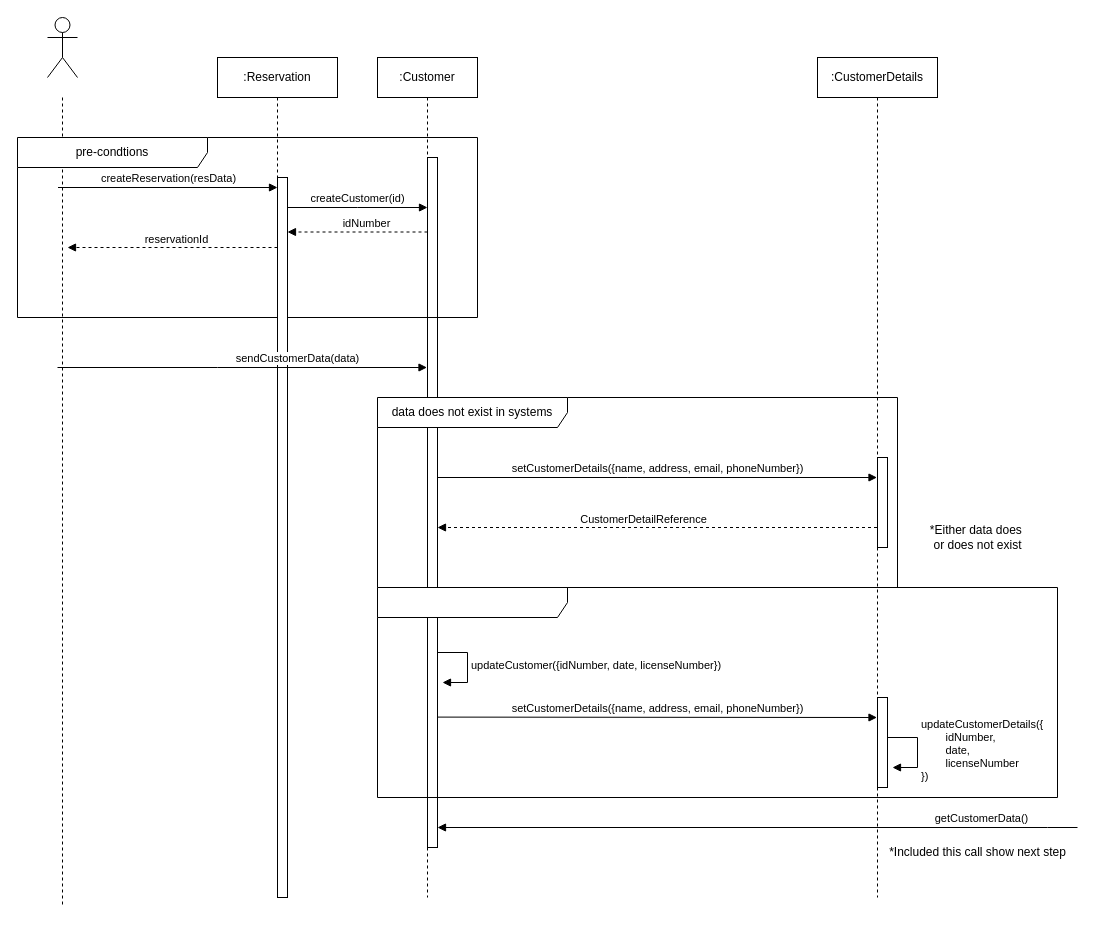
The diagram is 1103 pixels wide and 926 high, and some of its shapes have lost their labels. Here are the shapes that lost their labels. From the top down, the centre of each, then its label:
At (x=62, y=47): "Customer".
At (x=717, y=692): "data exists in systems".
